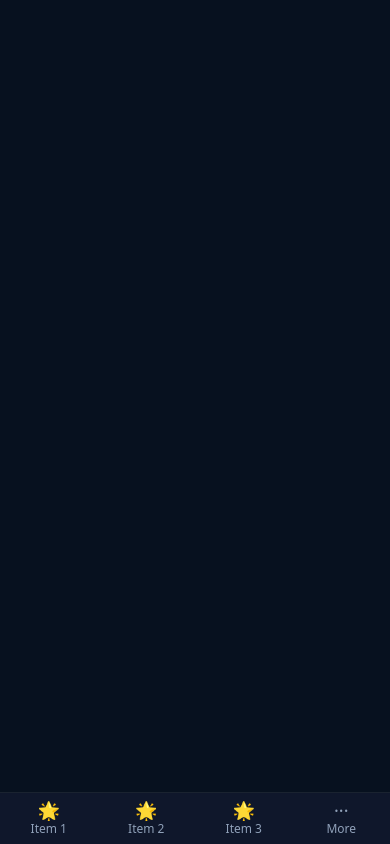
Test: BottomNavOverflow › opens the overflow sheet when 'More' is clicked
Click the button "··· More": {"x": 341, "y": 818} [292,793,389,843]
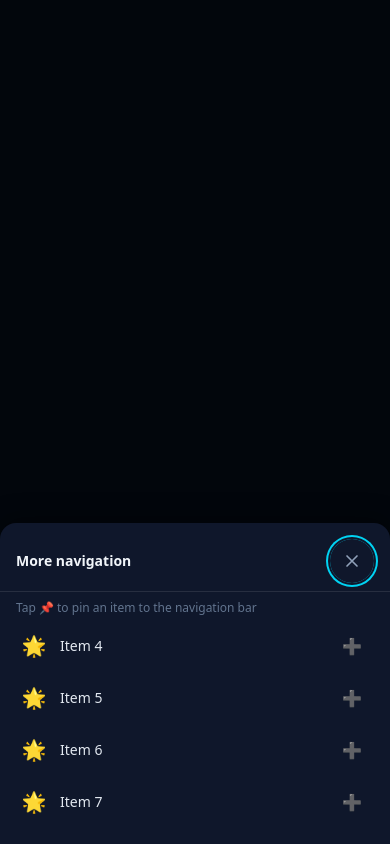
Expected: the button "··· More" is expanded, [292,793,389,843]
Expected: the dialog is shown, [0,523,389,843]
Expected: the heading "More navigation" is shown, [16,551,131,571]
